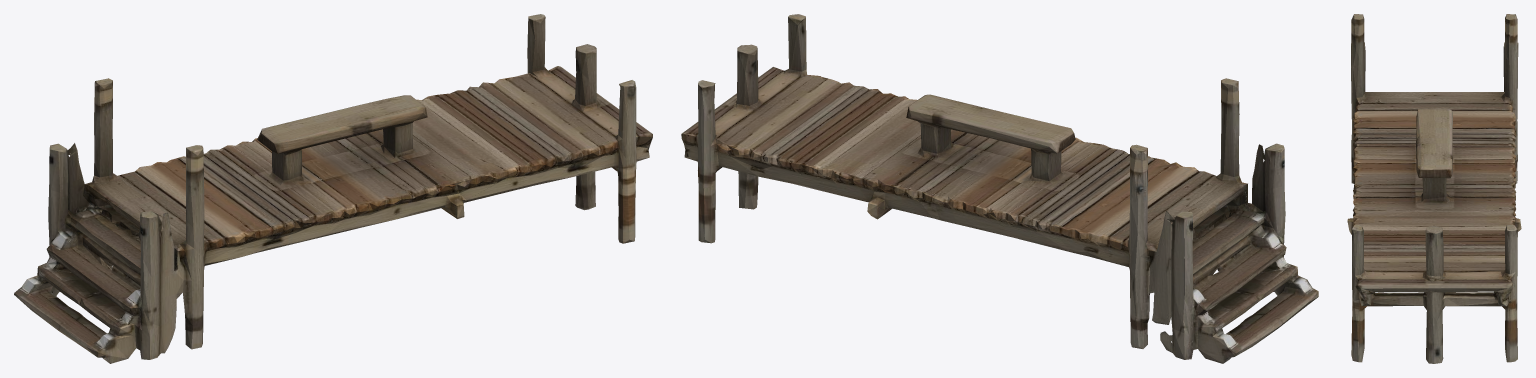
Rendered from pier_stairs_bench_lod0.glb.
The picture shows the model from 3 angles, left to right: view 1: azimuth 30°, elevation 25°; view 2: azimuth 150°, elevation 25°; view 3: azimuth 270°, elevation 25°; orthographic projection. The views are drawn at different scales.
Parts seen in each view (by area): view 1: pier_stairs_bench_lod0; view 2: pier_stairs_bench_lod0; view 3: pier_stairs_bench_lod0.
Part boxes in pixels (left/top/right/bottom): pier_stairs_bench_lod0: left=14, top=14, right=652, bottom=363; pier_stairs_bench_lod0: left=681, top=14, right=1318, bottom=363; pier_stairs_bench_lod0: left=1347, top=14, right=1521, bottom=363.
Size of the model in its own units: 6 by 2.06 by 1.95.
Materials: 1 (1 with a texture image).
